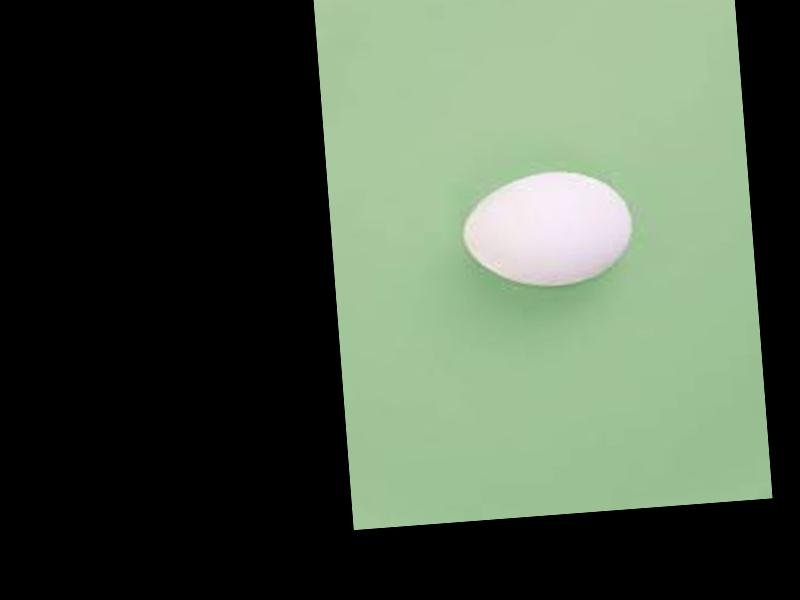Eggs: (459, 166, 638, 293)
